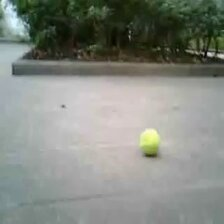tennis: (140, 127, 159, 154)
